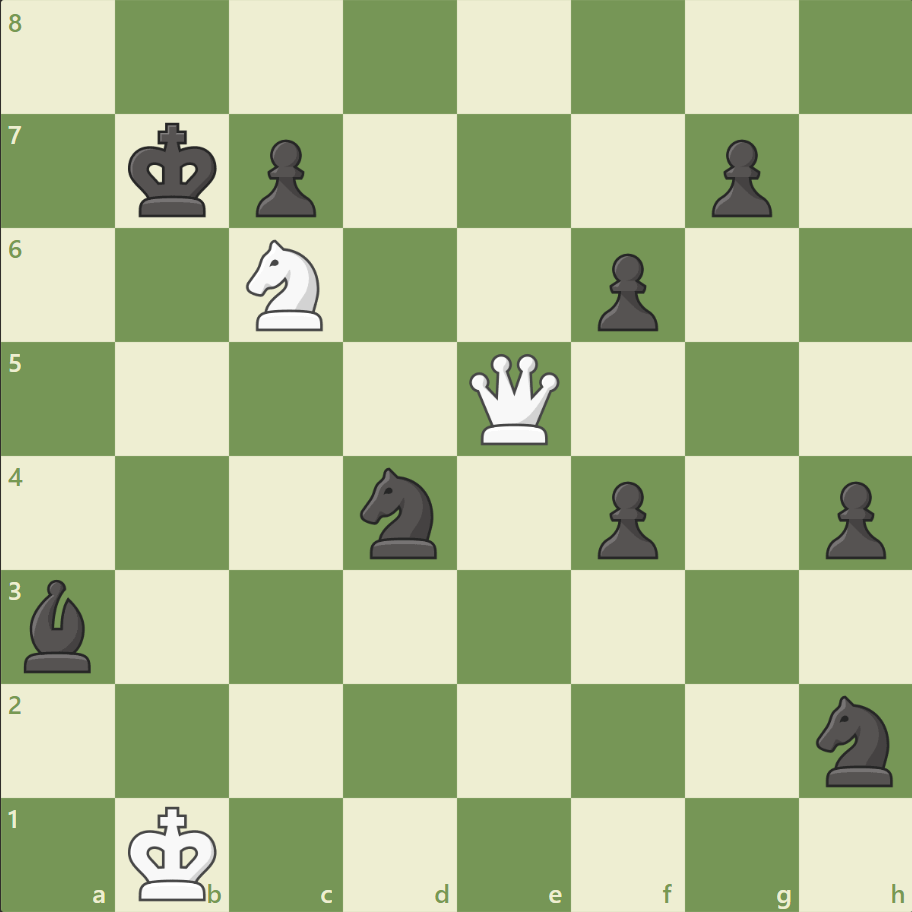K: (124, 798, 224, 906)
N: (238, 234, 335, 337)
Q: (464, 349, 563, 449)
b: (17, 574, 101, 676)
k: (124, 117, 224, 225)
n: (351, 461, 449, 564), (806, 688, 903, 791)
p: (247, 132, 322, 223), (701, 132, 776, 223), (588, 246, 662, 337), (588, 473, 662, 564), (815, 473, 889, 564)
